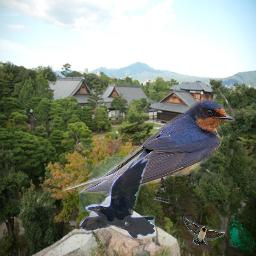Crow: (79, 157, 155, 238)
Swallow: (62, 98, 235, 196), (183, 216, 225, 245)
